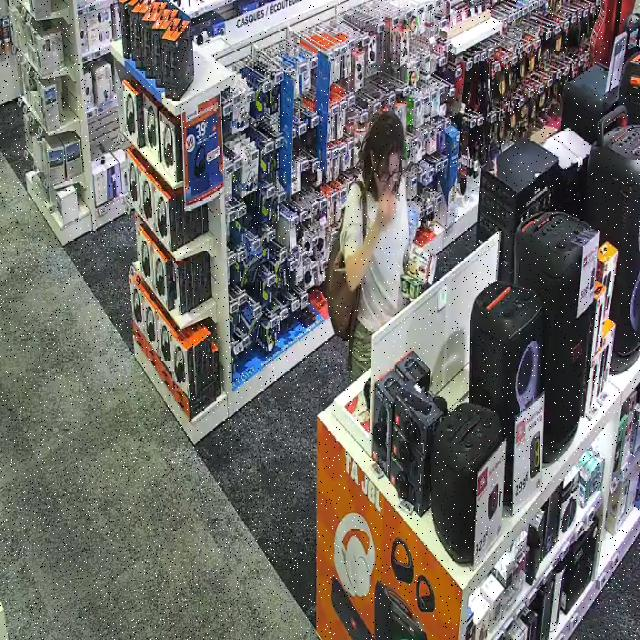article: (405, 243, 435, 283), (403, 274, 424, 299)
bags: (327, 238, 360, 357)
hands: (374, 192, 399, 230)
person: (341, 112, 414, 378)
